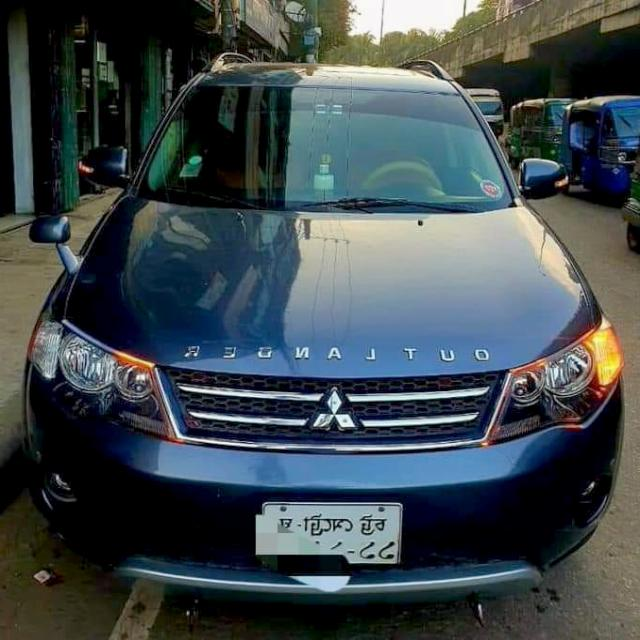blue: (24, 63, 610, 614)
